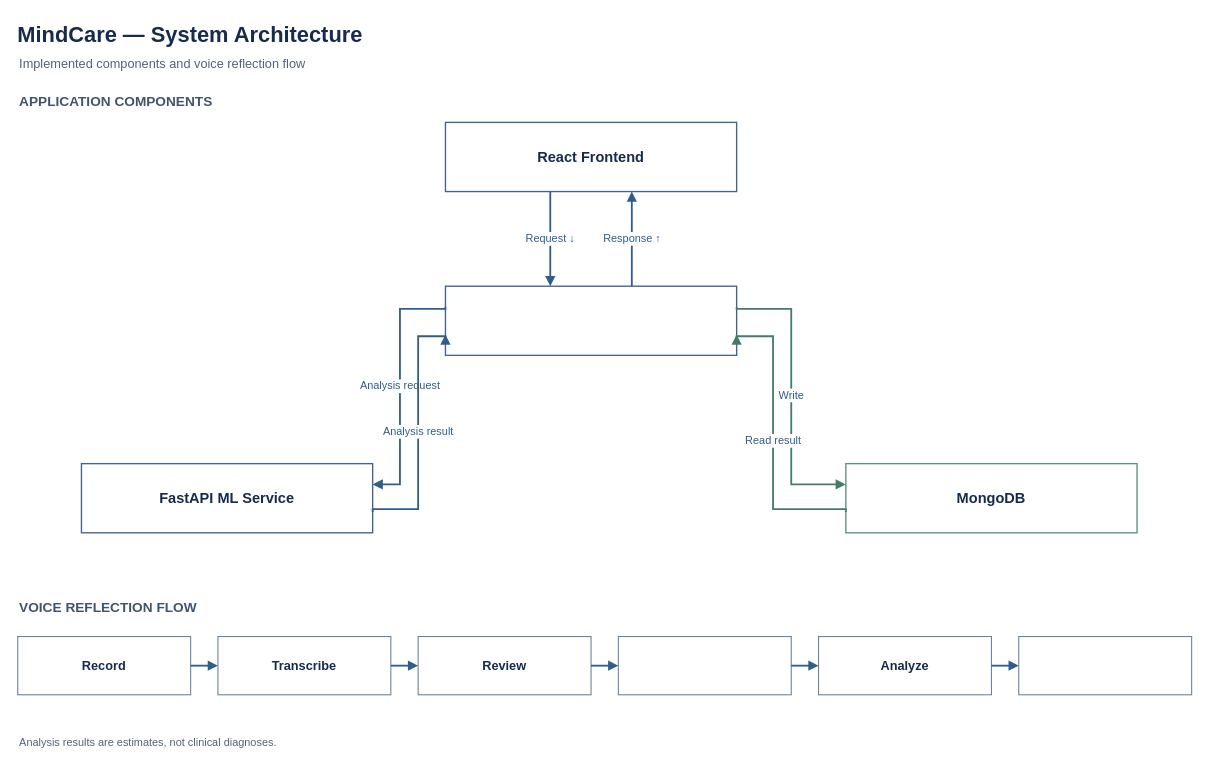
The diagram is 1208 pixels wide and 769 high, and some of its shapes have lost their labels. Here are the shapes that lost their labels. From the top down, the centre of each, then its label:
the point at 590,320: Express API
the point at 704,665: Confirm
the point at 1105,665: Save + Display
